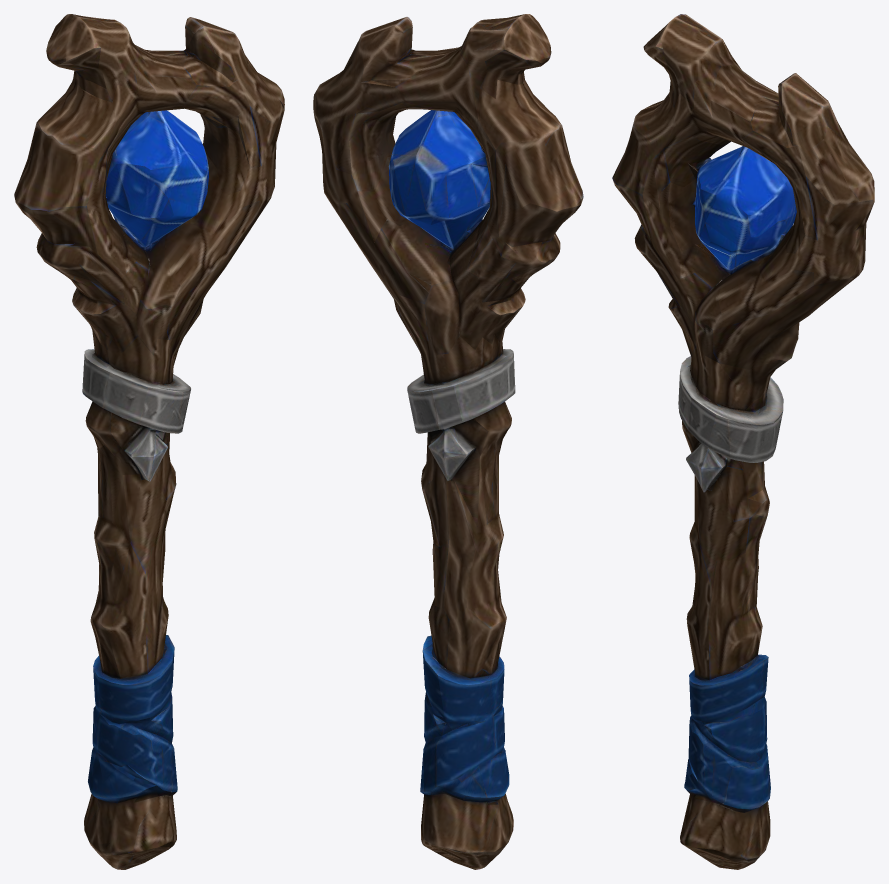
File: apprentice_staff.glb
The picture shows the model from 3 angles, left to right: view 1: azimuth 30°, elevation 25°; view 2: azimuth 150°, elevation 25°; view 3: azimuth 330°, elevation 25°; orthographic projection. The views are drawn at different scales.
Size of the model in its own units: 0.6925 by 2.15 by 0.2681.
Materials: 1 (1 with a texture image).
